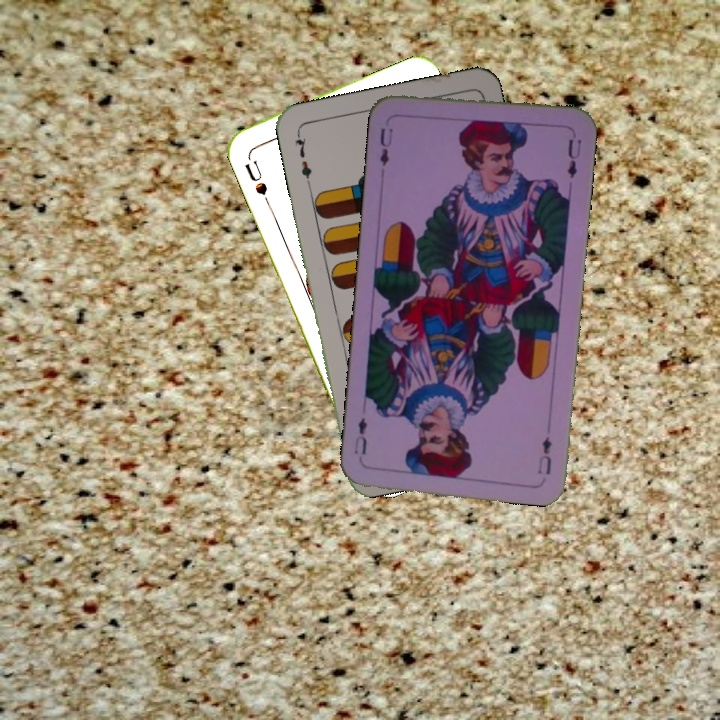E7: (290, 129, 314, 187)
EU: (375, 123, 395, 169), (534, 432, 554, 478)
SU: (241, 150, 270, 198)
